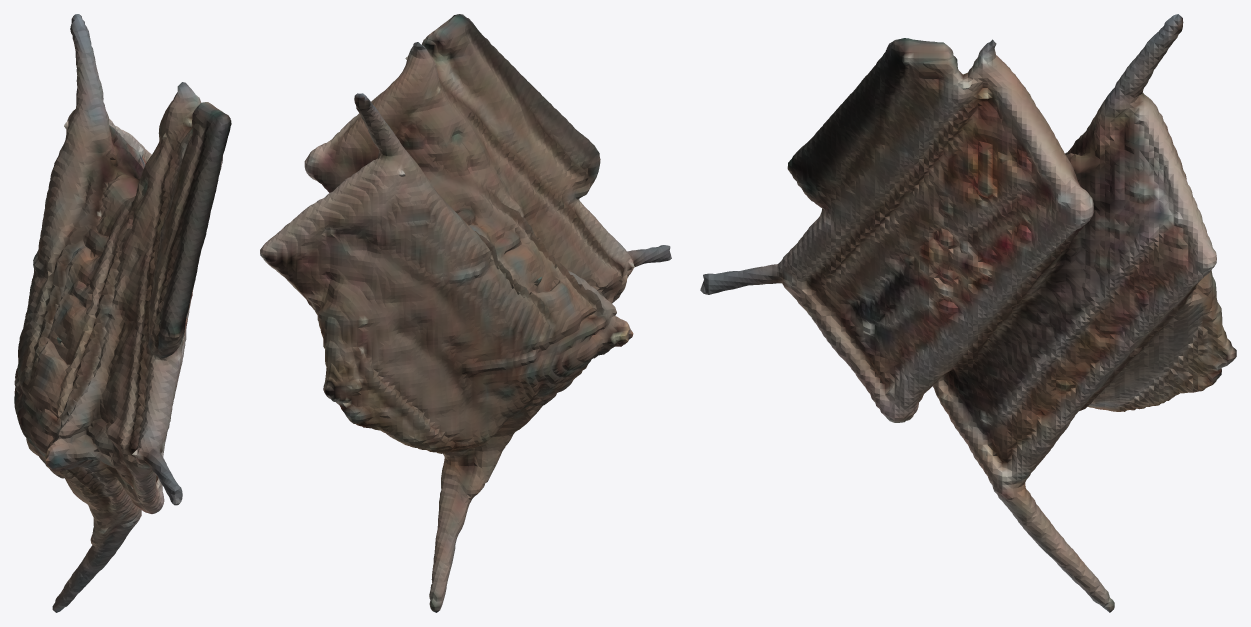
3 views of the same model, side by side, from view 1: azimuth 30°, elevation 25°; view 2: azimuth 150°, elevation 25°; view 3: azimuth 270°, elevation 25° (orthographic). The views are drawn at different scales.
Size of the model in its own units: 0.4686 by 0.9611 by 0.7483.
